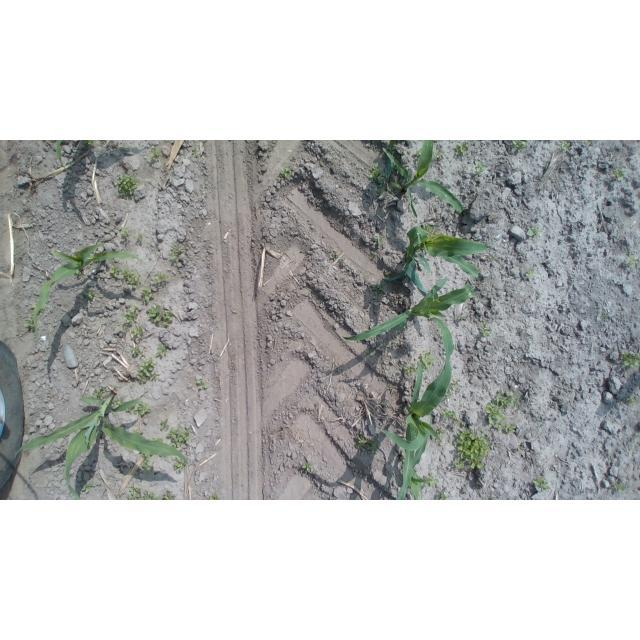Maize: (15, 392, 189, 500), (381, 317, 456, 500), (32, 242, 146, 332), (342, 276, 477, 341), (384, 227, 494, 298), (382, 141, 464, 220), (400, 434, 429, 500), (56, 140, 69, 172)
Weeds: (484, 387, 520, 435), (452, 429, 492, 470), (109, 264, 142, 289), (147, 304, 174, 328), (119, 304, 140, 334), (136, 356, 158, 384), (368, 164, 387, 195), (124, 484, 158, 500), (117, 173, 140, 196), (168, 428, 193, 448), (356, 435, 379, 453), (620, 351, 640, 370), (420, 349, 436, 372), (443, 408, 462, 427), (533, 475, 551, 491), (133, 401, 152, 416), (140, 453, 153, 474), (151, 271, 172, 284), (168, 244, 184, 261), (474, 160, 487, 180), (455, 142, 472, 157), (511, 140, 532, 152), (140, 287, 156, 301), (402, 363, 417, 377), (422, 223, 436, 237), (433, 428, 446, 443), (133, 325, 146, 340), (280, 167, 294, 180), (425, 475, 440, 487), (156, 343, 168, 358), (612, 168, 625, 181), (372, 283, 384, 297), (628, 255, 640, 269), (93, 388, 108, 399), (480, 324, 492, 337), (301, 460, 313, 472), (120, 228, 132, 240), (151, 147, 161, 161), (412, 148, 421, 163), (432, 151, 444, 162), (442, 389, 453, 401), (130, 347, 142, 358), (374, 235, 387, 245), (527, 227, 540, 237), (174, 459, 184, 472), (197, 379, 210, 389), (612, 483, 626, 492), (82, 140, 95, 149), (159, 419, 169, 430), (560, 140, 569, 152), (25, 318, 35, 328), (164, 492, 175, 501), (82, 484, 93, 493), (85, 292, 95, 301), (526, 269, 535, 278), (367, 348, 377, 356), (439, 492, 449, 500), (191, 147, 199, 157), (627, 396, 636, 404), (136, 232, 145, 240), (112, 399, 123, 405), (448, 384, 461, 389), (208, 493, 217, 500), (152, 438, 164, 443), (489, 253, 496, 261), (332, 253, 340, 260), (132, 430, 143, 435), (632, 435, 640, 441), (457, 316, 468, 320), (385, 270, 391, 277), (76, 269, 83, 275), (517, 446, 525, 451), (490, 496, 498, 500), (586, 141, 592, 146), (32, 303, 38, 308), (604, 313, 608, 320), (88, 158, 93, 163), (11, 220, 14, 228), (341, 261, 345, 266), (104, 148, 108, 153), (126, 410, 131, 413)
